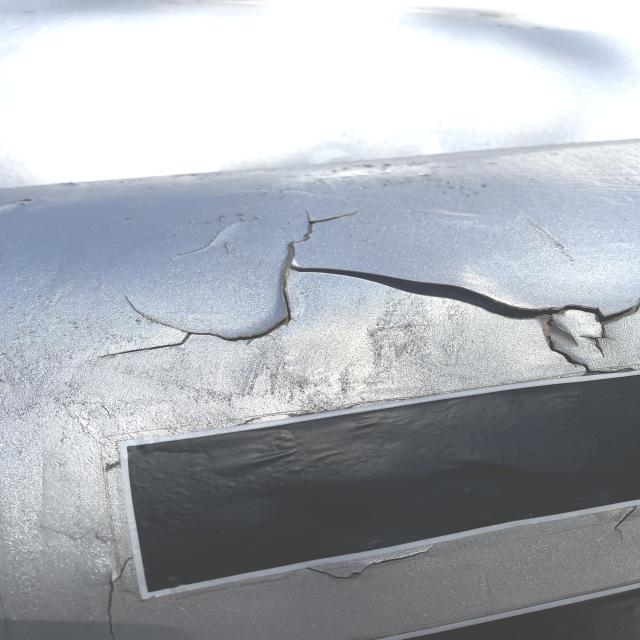crack: (278, 218, 640, 329), (86, 290, 295, 361), (175, 214, 259, 262)
